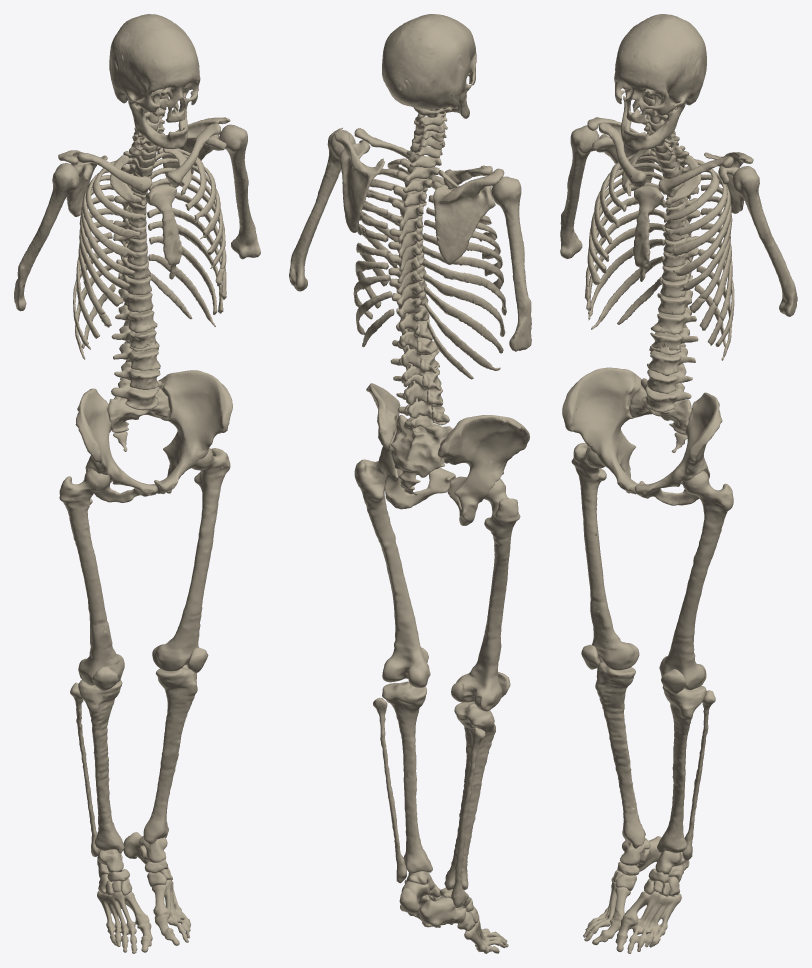
File: vhf_denver_ct_adult_female.skeletal.LOD2.glb
3 renders of one model, left to right at view 1: azimuth 30°, elevation 25°; view 2: azimuth 150°, elevation 25°; view 3: azimuth 330°, elevation 25°, orthographic. The views are drawn at different scales.
Parts seen in each view (by area): view 1: VHF_DENVER_CT.ADULT.FEMALE.SKELETAL.SKULL_CRANIUM_AND_MANDIB, VHF_DENVER_CT.ADULT.FEMALE.SKELETAL.HIP_BONE_OS_COXAE.L, VHF_DENVER_CT.ADULT.FEMALE.SKELETAL.FEMUR.R, VHF_DENVER_CT.ADULT.FEMALE.SKELETAL.FEMUR.L, VHF_DENVER_CT.ADULT.FEMALE.SKELETAL.TIBIA.L, VHF_DENVER_CT.ADULT.FEMALE.SKELETAL.METATARSALS_AND_PHALANGE (×2), VHF_DENVER_CT.ADULT.FEMALE.SKELETAL.HIP_BONE_OS_COXAE.R, VHF_DENVER_CT.ADULT.FEMALE.SKELETAL.TIBIA.R, VHF_DENVER_CT.ADULT.FEMALE.SKELETAL.HUMERUS.L, VHF_DENVER_CT.ADULT.FEMALE.SKELETAL.HUMERUS.R, VHF_DENVER_CT.ADULT.FEMALE.SKELETAL.STERNUM, VHF_DENVER_CT.ADULT.FEMALE.SKELETAL.VERTEBRA_L3 (+21 smaller); view 2: VHF_DENVER_CT.ADULT.FEMALE.SKELETAL.SKULL_CRANIUM_AND_MANDIB, VHF_DENVER_CT.ADULT.FEMALE.SKELETAL.HIP_BONE_OS_COXAE.R, VHF_DENVER_CT.ADULT.FEMALE.SKELETAL.FEMUR.L, VHF_DENVER_CT.ADULT.FEMALE.SKELETAL.FEMUR.R, VHF_DENVER_CT.ADULT.FEMALE.SKELETAL.SCAPULA.R, VHF_DENVER_CT.ADULT.FEMALE.SKELETAL.TIBIA.L, VHF_DENVER_CT.ADULT.FEMALE.SKELETAL.HIP_BONE_OS_COXAE.L, VHF_DENVER_CT.ADULT.FEMALE.SKELETAL.TIBIA.R, VHF_DENVER_CT.ADULT.FEMALE.SKELETAL.HUMERUS.R, VHF_DENVER_CT.ADULT.FEMALE.SKELETAL.SACRUM, VHF_DENVER_CT.ADULT.FEMALE.SKELETAL.SCAPULA.L, VHF_DENVER_CT.ADULT.FEMALE.SKELETAL.HUMERUS.L (+16 smaller); view 3: VHF_DENVER_CT.ADULT.FEMALE.SKELETAL.SKULL_CRANIUM_AND_MANDIB, VHF_DENVER_CT.ADULT.FEMALE.SKELETAL.HIP_BONE_OS_COXAE.R, VHF_DENVER_CT.ADULT.FEMALE.SKELETAL.FEMUR.L, VHF_DENVER_CT.ADULT.FEMALE.SKELETAL.FEMUR.R, VHF_DENVER_CT.ADULT.FEMALE.SKELETAL.TIBIA.R, VHF_DENVER_CT.ADULT.FEMALE.SKELETAL.METATARSALS_AND_PHALANGE (×2), VHF_DENVER_CT.ADULT.FEMALE.SKELETAL.HIP_BONE_OS_COXAE.L, VHF_DENVER_CT.ADULT.FEMALE.SKELETAL.TIBIA.L, VHF_DENVER_CT.ADULT.FEMALE.SKELETAL.HUMERUS.L, VHF_DENVER_CT.ADULT.FEMALE.SKELETAL.HUMERUS.R, VHF_DENVER_CT.ADULT.FEMALE.SKELETAL.STERNUM, VHF_DENVER_CT.ADULT.FEMALE.SKELETAL.VERTEBRA_L3 (+23 smaller).
Boxes of the visible parts, left/top/right/bottom form: VHF_DENVER_CT.ADULT.FEMALE.SKELETAL.SKULL_CRANIUM_AND_MANDIB: left=109, top=14, right=200, bottom=149; VHF_DENVER_CT.ADULT.FEMALE.SKELETAL.HIP_BONE_OS_COXAE.L: left=154, top=370, right=232, bottom=494; VHF_DENVER_CT.ADULT.FEMALE.SKELETAL.FEMUR.R: left=59, top=468, right=124, bottom=685; VHF_DENVER_CT.ADULT.FEMALE.SKELETAL.FEMUR.L: left=152, top=447, right=230, bottom=671; VHF_DENVER_CT.ADULT.FEMALE.SKELETAL.TIBIA.L: left=143, top=665, right=197, bottom=844; VHF_DENVER_CT.ADULT.FEMALE.SKELETAL.METATARSALS_AND_PHALANGE (×2): left=97, top=879, right=190, bottom=953; VHF_DENVER_CT.ADULT.FEMALE.SKELETAL.HIP_BONE_OS_COXAE.R: left=75, top=388, right=157, bottom=502; VHF_DENVER_CT.ADULT.FEMALE.SKELETAL.TIBIA.R: left=78, top=680, right=124, bottom=853; VHF_DENVER_CT.ADULT.FEMALE.SKELETAL.HUMERUS.L: left=219, top=124, right=260, bottom=259; VHF_DENVER_CT.ADULT.FEMALE.SKELETAL.HUMERUS.R: left=14, top=163, right=79, bottom=311; VHF_DENVER_CT.ADULT.FEMALE.SKELETAL.STERNUM: left=145, top=184, right=182, bottom=279; VHF_DENVER_CT.ADULT.FEMALE.SKELETAL.VERTEBRA_L3: left=111, top=325, right=160, bottom=370; VHF_DENVER_CT.ADULT.FEMALE.SKELETAL.SKULL_CRANIUM_AND_MANDIB: left=382, top=14, right=476, bottom=118; VHF_DENVER_CT.ADULT.FEMALE.SKELETAL.HIP_BONE_OS_COXAE.R: left=437, top=415, right=529, bottom=525; VHF_DENVER_CT.ADULT.FEMALE.SKELETAL.FEMUR.L: left=354, top=459, right=430, bottom=687; VHF_DENVER_CT.ADULT.FEMALE.SKELETAL.FEMUR.R: left=451, top=478, right=520, bottom=711; VHF_DENVER_CT.ADULT.FEMALE.SKELETAL.SCAPULA.R: left=433, top=168, right=504, bottom=264; VHF_DENVER_CT.ADULT.FEMALE.SKELETAL.TIBIA.L: left=382, top=681, right=432, bottom=873; VHF_DENVER_CT.ADULT.FEMALE.SKELETAL.HIP_BONE_OS_COXAE.L: left=366, top=383, right=455, bottom=509; VHF_DENVER_CT.ADULT.FEMALE.SKELETAL.TIBIA.R: left=444, top=701, right=495, bottom=890; VHF_DENVER_CT.ADULT.FEMALE.SKELETAL.HUMERUS.R: left=491, top=176, right=531, bottom=351; VHF_DENVER_CT.ADULT.FEMALE.SKELETAL.SACRUM: left=390, top=415, right=452, bottom=488; VHF_DENVER_CT.ADULT.FEMALE.SKELETAL.SCAPULA.L: left=334, top=127, right=384, bottom=232; VHF_DENVER_CT.ADULT.FEMALE.SKELETAL.HUMERUS.L: left=289, top=130, right=355, bottom=291; VHF_DENVER_CT.ADULT.FEMALE.SKELETAL.SKULL_CRANIUM_AND_MANDIB: left=614, top=14, right=706, bottom=149; VHF_DENVER_CT.ADULT.FEMALE.SKELETAL.HIP_BONE_OS_COXAE.R: left=562, top=367, right=643, bottom=494; VHF_DENVER_CT.ADULT.FEMALE.SKELETAL.FEMUR.L: left=659, top=470, right=733, bottom=690; VHF_DENVER_CT.ADULT.FEMALE.SKELETAL.FEMUR.R: left=571, top=443, right=639, bottom=670; VHF_DENVER_CT.ADULT.FEMALE.SKELETAL.TIBIA.R: left=595, top=662, right=645, bottom=848; VHF_DENVER_CT.ADULT.FEMALE.SKELETAL.METATARSALS_AND_PHALANGE (×2): left=583, top=881, right=681, bottom=953; VHF_DENVER_CT.ADULT.FEMALE.SKELETAL.HIP_BONE_OS_COXAE.L: left=634, top=392, right=722, bottom=505; VHF_DENVER_CT.ADULT.FEMALE.SKELETAL.TIBIA.L: left=657, top=685, right=706, bottom=853; VHF_DENVER_CT.ADULT.FEMALE.SKELETAL.HUMERUS.L: left=732, top=166, right=797, bottom=316; VHF_DENVER_CT.ADULT.FEMALE.SKELETAL.HUMERUS.R: left=560, top=125, right=599, bottom=258; VHF_DENVER_CT.ADULT.FEMALE.SKELETAL.STERNUM: left=633, top=185, right=663, bottom=281; VHF_DENVER_CT.ADULT.FEMALE.SKELETAL.VERTEBRA_L3: left=649, top=327, right=698, bottom=375.
Size of the model in its own units: 0.467 by 1.71 by 0.2195.
